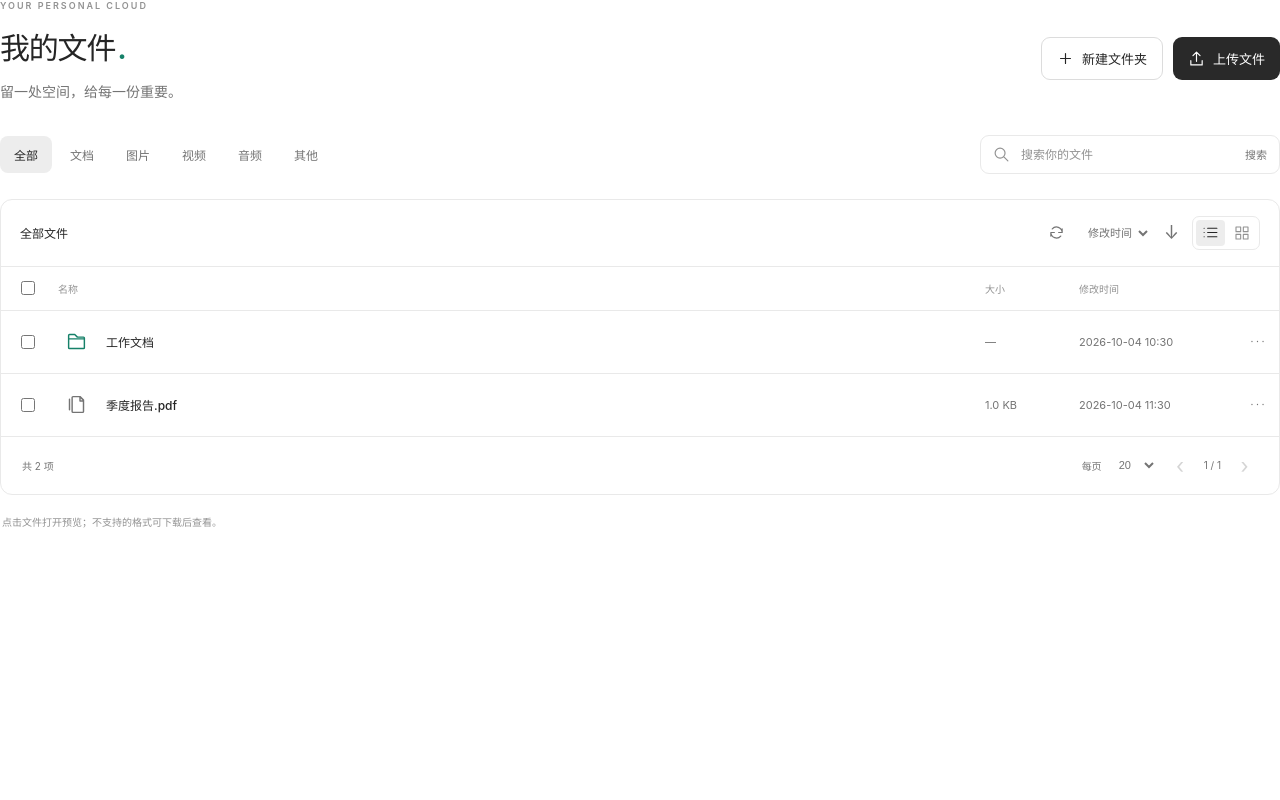
文件浏览与组织 › 新建失败保留输入并可重试，成功后刷新列表
This screenshot has width=1280, height=800.
Click the button with class "secondary-button" at (1102, 59), box [1041,37,1163,80]
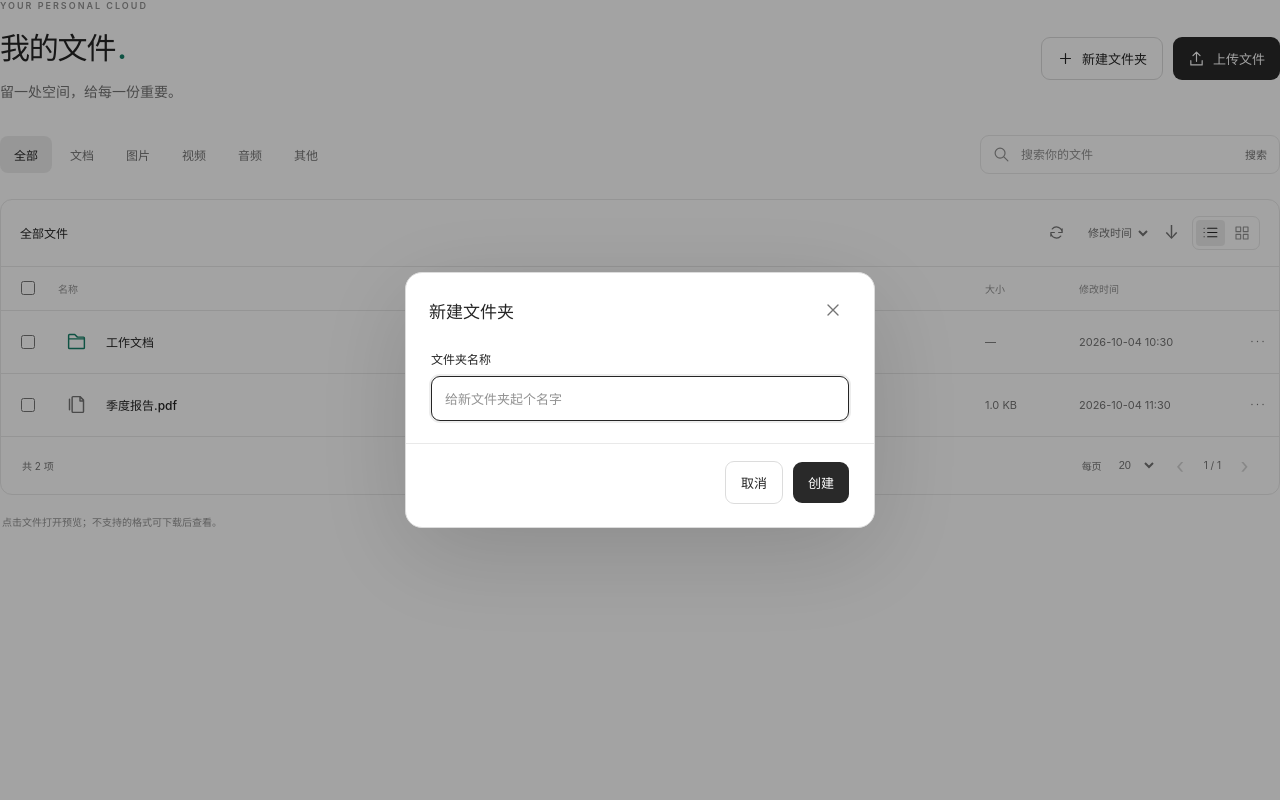
Type "工作文档" into the field with id "file-name" at (640, 398), box [431,376,849,421]
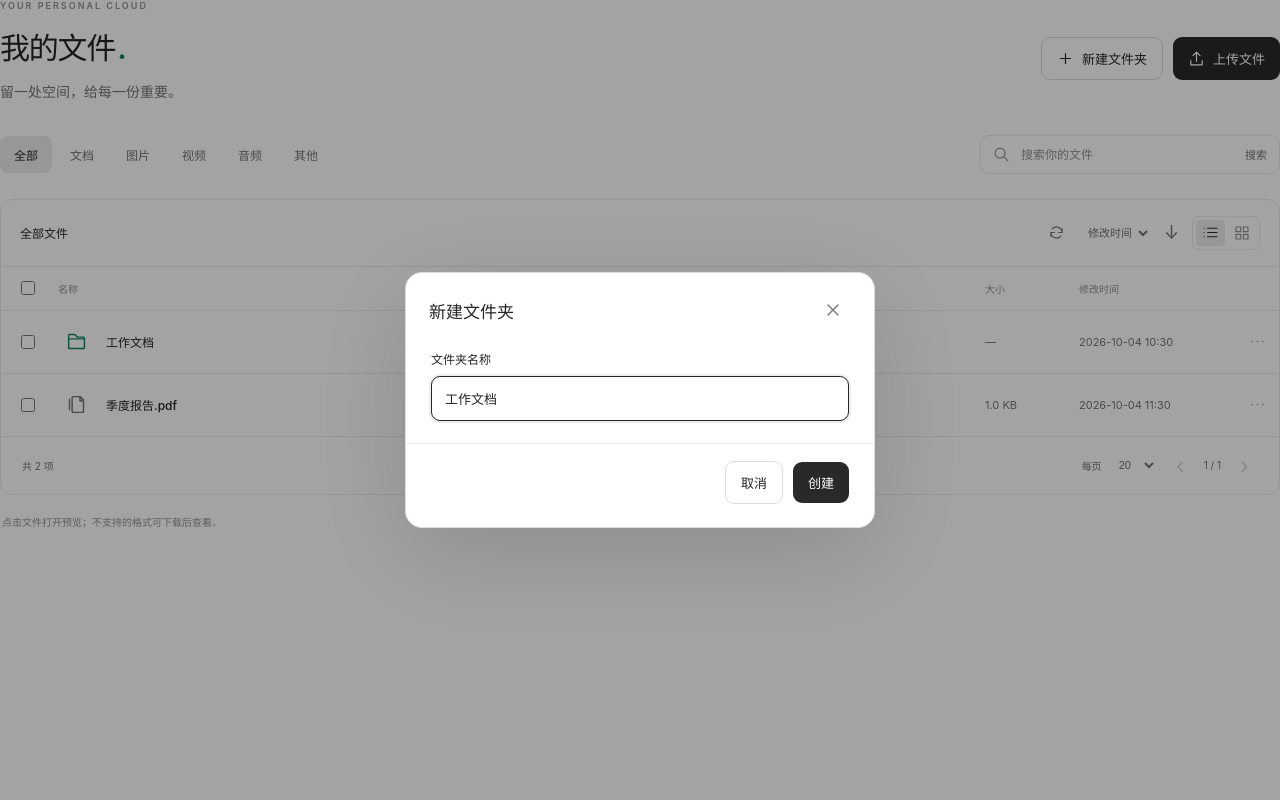
Click the button "创建" at (821, 482), box [793,462,849,503]
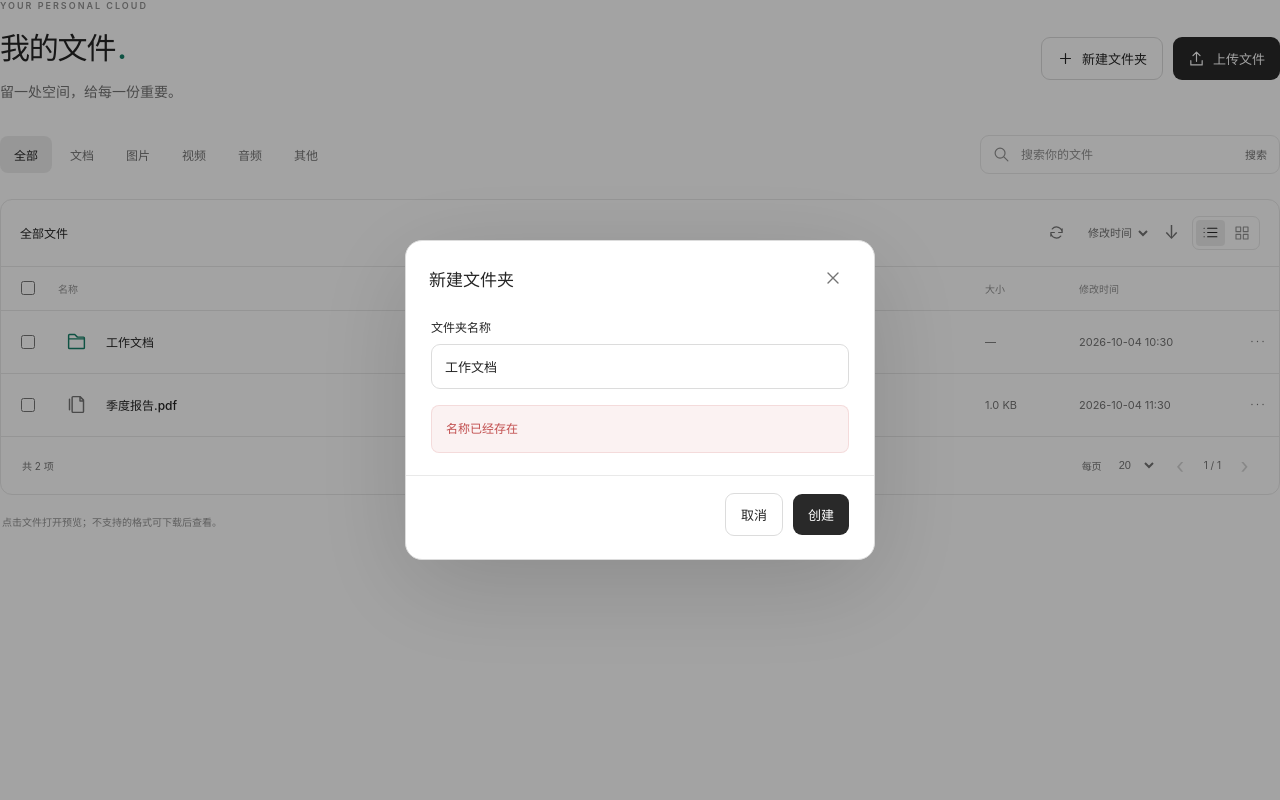
expect the message "名称已经存在" is shown: met, box [431,405,849,453]
Click the button "创建" at (821, 514), box [793,494,849,535]
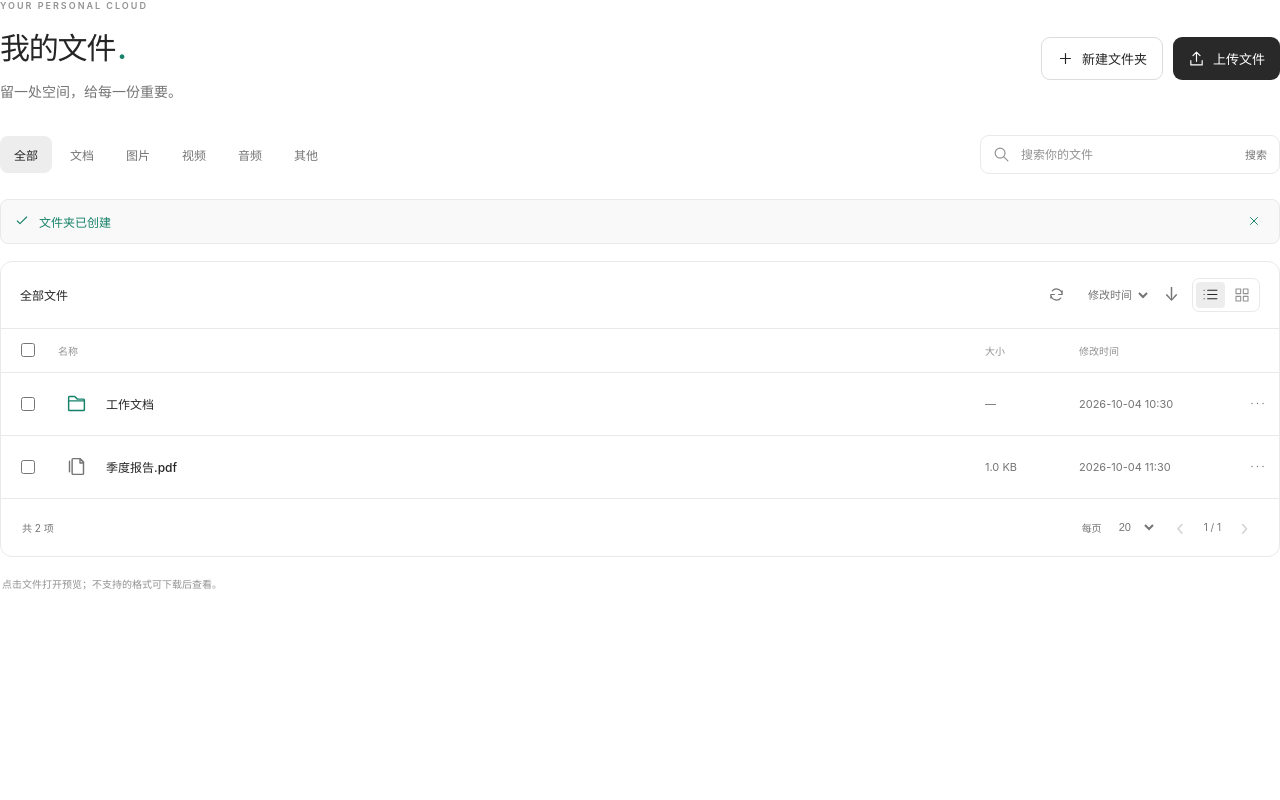
expect the message with class "drive-notice" reads "文件夹已创建": met, box [39,215,111,230]
